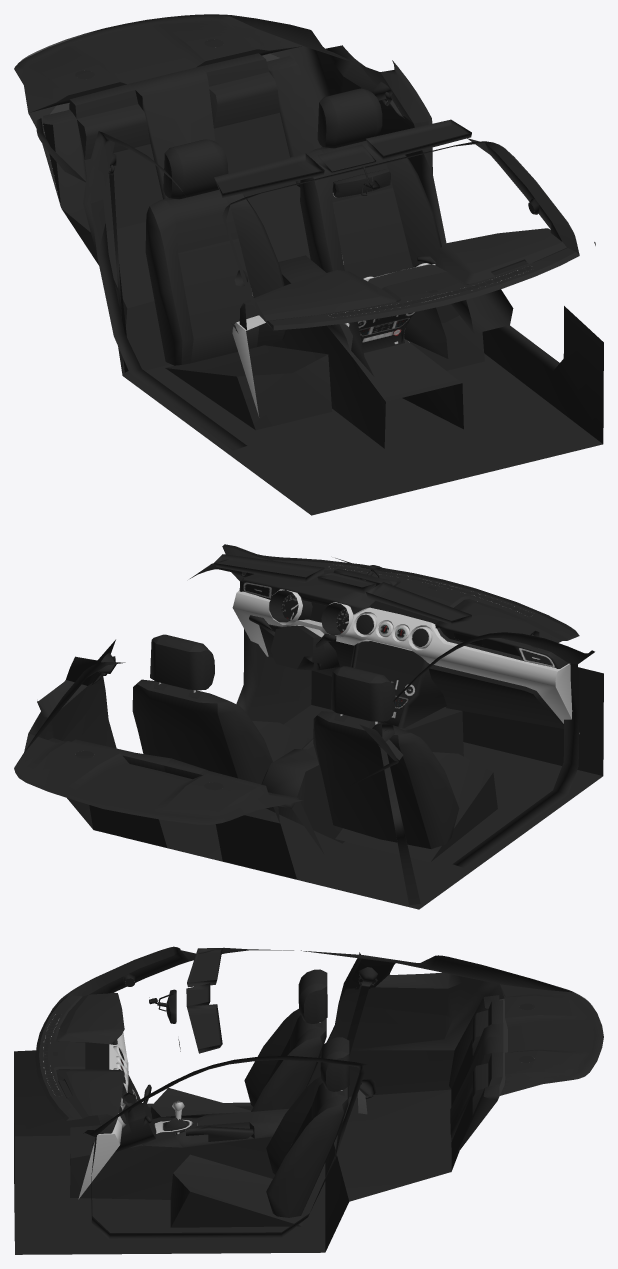
File: Ford_Interior5_Mesh_006_M_Interior_Max.fbx
3 views of the same model, one above another, from view 1: azimuth 30°, elevation 25°; view 2: azimuth 150°, elevation 25°; view 3: azimuth 270°, elevation 25° (orthographic). The views are drawn at different scales.
Visible parts, largest first — view 1: Ford:Interior5_Mesh_006_M_Interior_Max; view 2: Ford:Interior5_Mesh_006_M_Interior_Max; view 3: Ford:Interior5_Mesh_006_M_Interior_Max.
Part boxes in pixels (x1,y1,x2,y2): Ford:Interior5_Mesh_006_M_Interior_Max: (14,14,603,515); Ford:Interior5_Mesh_006_M_Interior_Max: (14,544,603,909); Ford:Interior5_Mesh_006_M_Interior_Max: (14,946,603,1254).
Size of the model in its own units: 1.59 by 1.09 by 2.71.
